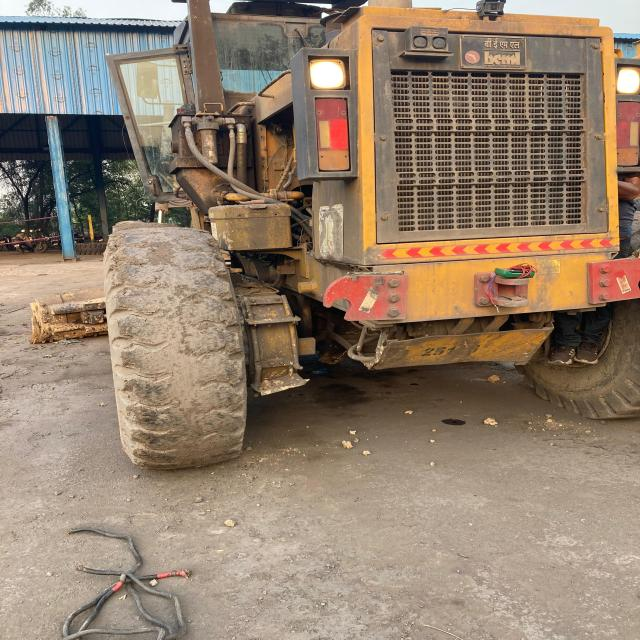buldozerpayloadergrader: (90, 0, 640, 480)
